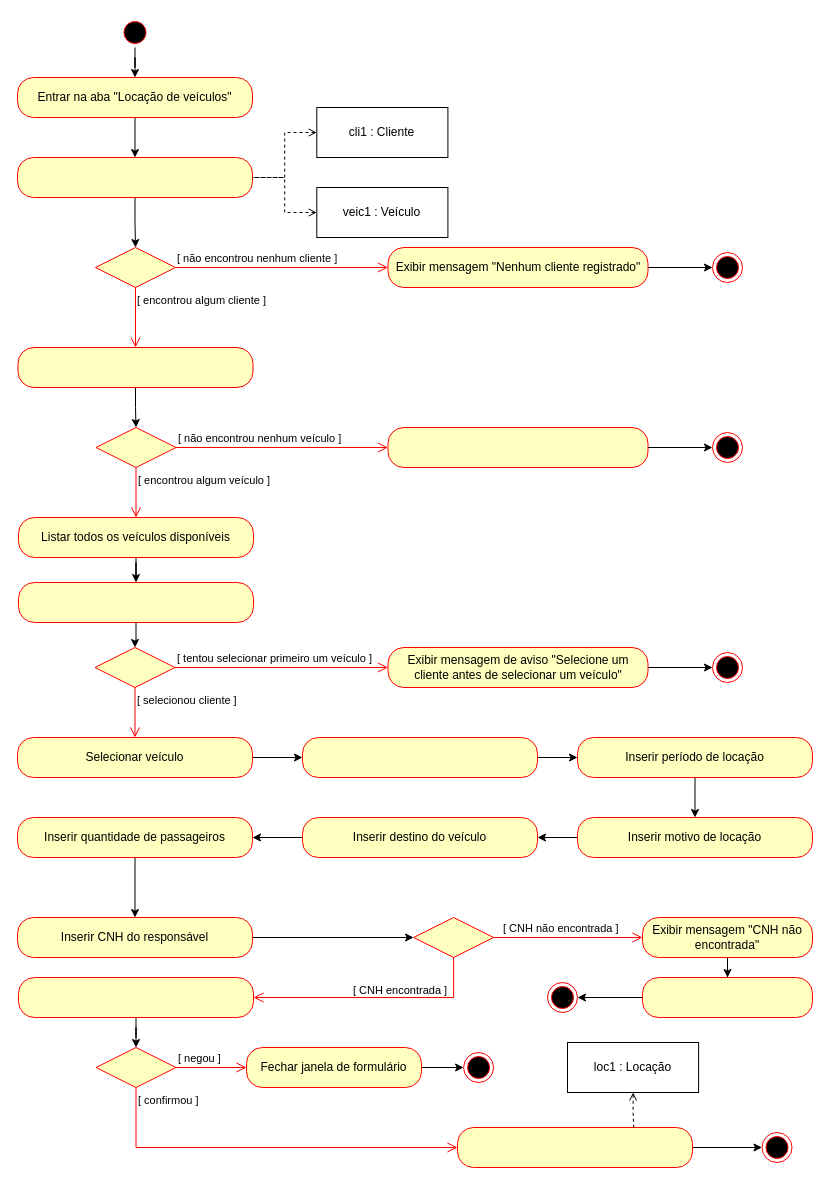
Some shapes in this 830 by 1185 pixel diagram are drawn without their labels. The centre of each missing label's shape, as x and y in pixels:
Abrir janela de formulário dos dados da locação: [420,757]
Exibir caixa de diálogo "Confirmar pedido de locação?": [136,997]
Exibir mensagem "Nenhum veículo disponível": [517,447]
Gerar pedido de locação: [574,1147]
Limpar campo da CNH: [727,997]
Listar todos os clientes registrados: [135,367]
Procurar clientes e veículos: [134,177]
Selecionar cliente: [136,602]
